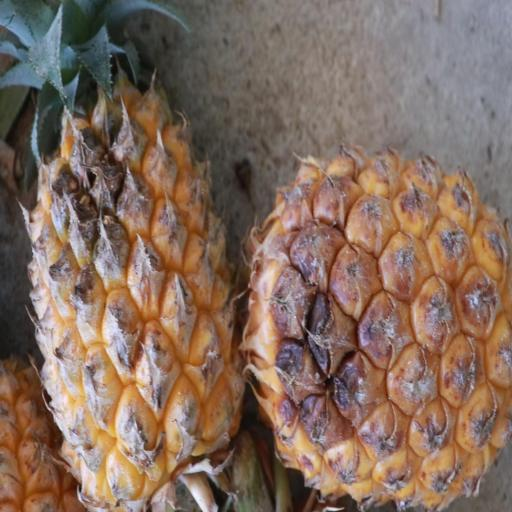Pineapple - v8 v1: (23, 4, 244, 512), (238, 143, 512, 512)
